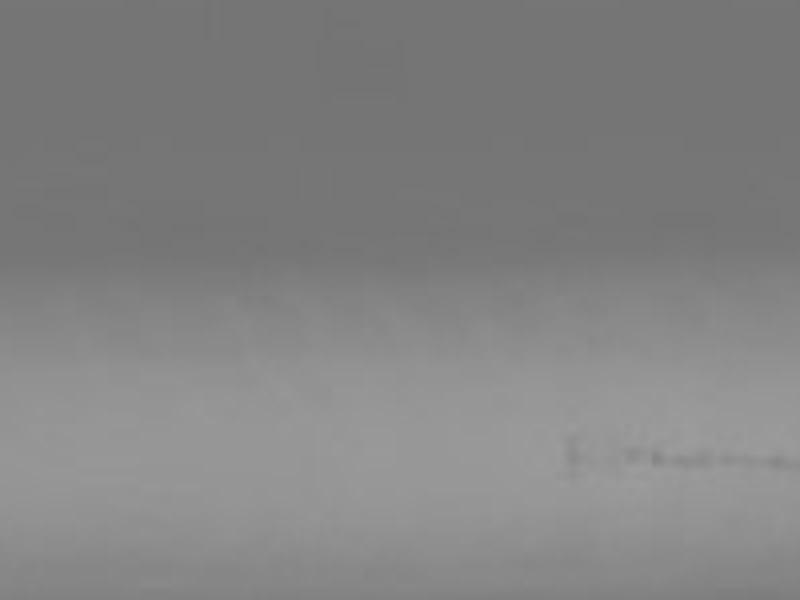defect: (561, 425, 587, 486), (673, 455, 719, 471), (723, 451, 761, 468), (623, 441, 642, 463), (767, 456, 793, 471), (649, 445, 661, 466)
